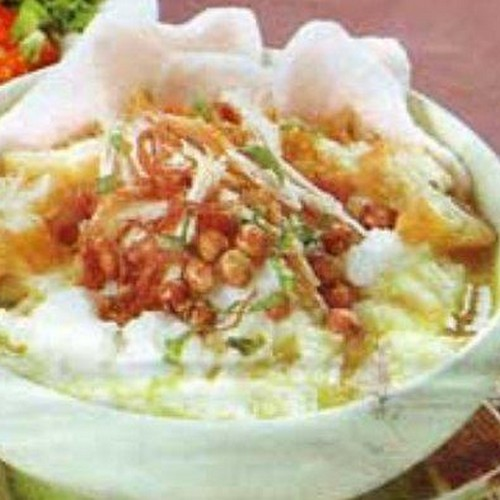bubur mengguh: (14, 71, 475, 431)
